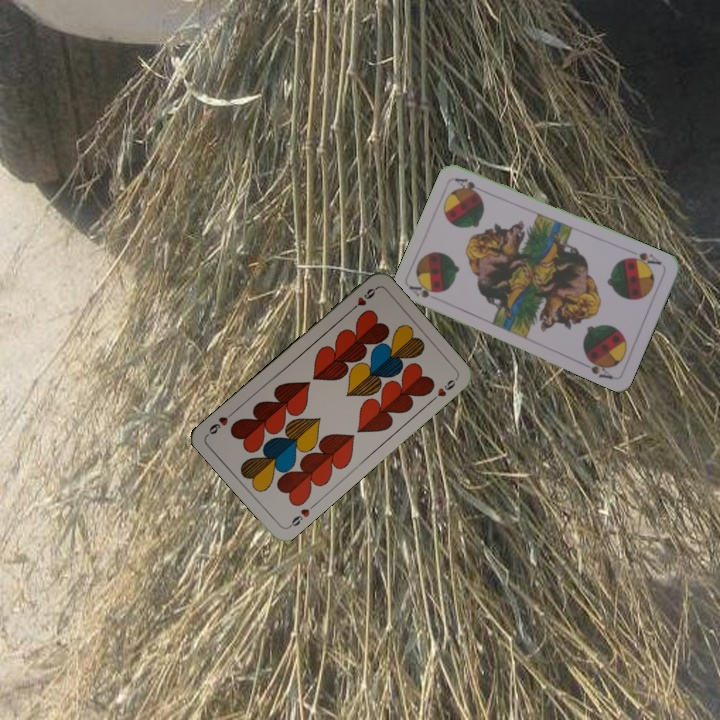H9: (346, 284, 380, 314), (285, 504, 312, 531)
SA: (624, 246, 664, 270), (405, 281, 440, 301)
